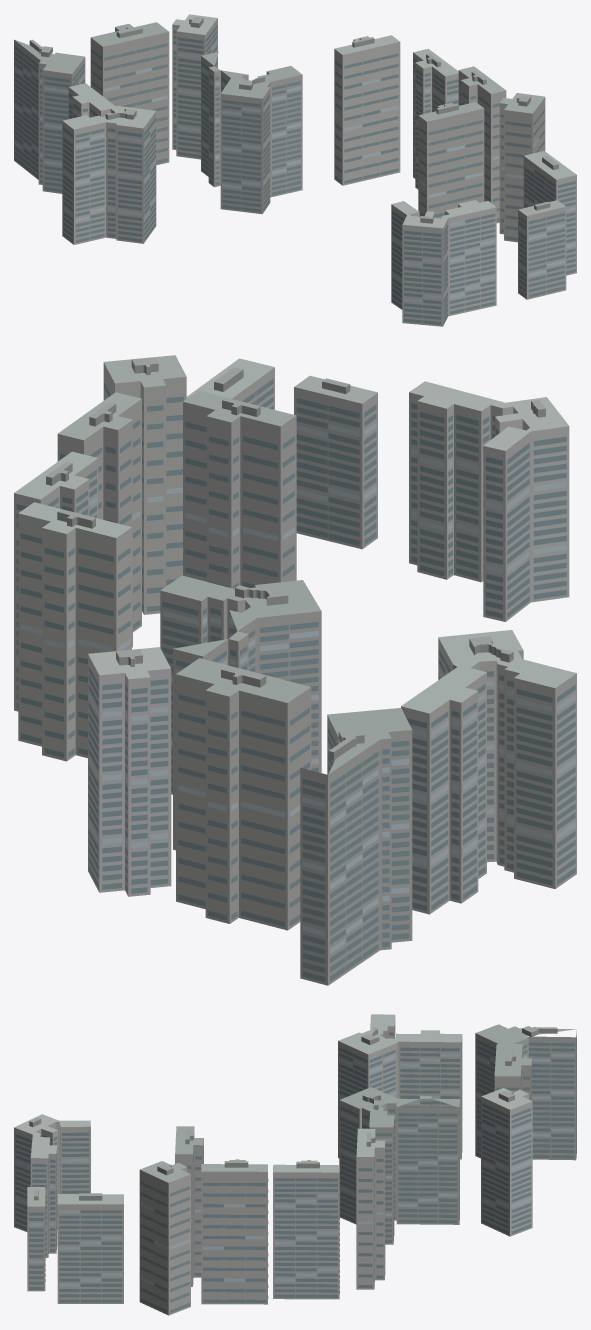
File: apt-a14009001.glb
The picture shows the model from 3 angles, top to bottom: view 1: azimuth 30°, elevation 25°; view 2: azimuth 150°, elevation 25°; view 3: azimuth 270°, elevation 25°; orthographic projection. The views are drawn at different scales.
Parts seen in each view (by area): view 1: apt-a14009001; view 2: apt-a14009001; view 3: apt-a14009001.
Part boxes in pixels (bbox=[...]): apt-a14009001: bbox=[14, 14, 576, 326]; apt-a14009001: bbox=[14, 355, 576, 985]; apt-a14009001: bbox=[14, 1014, 576, 1315].
Size of the model in its own units: 204 by 71 by 264.
